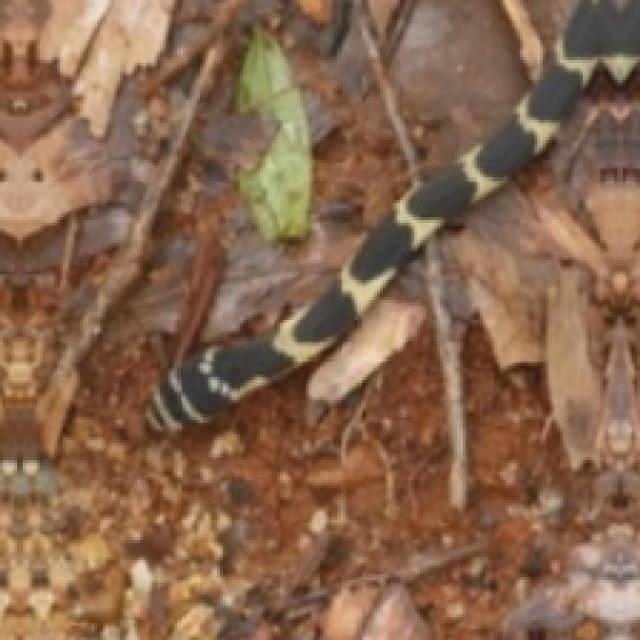king cobra: (149, 0, 637, 429)
